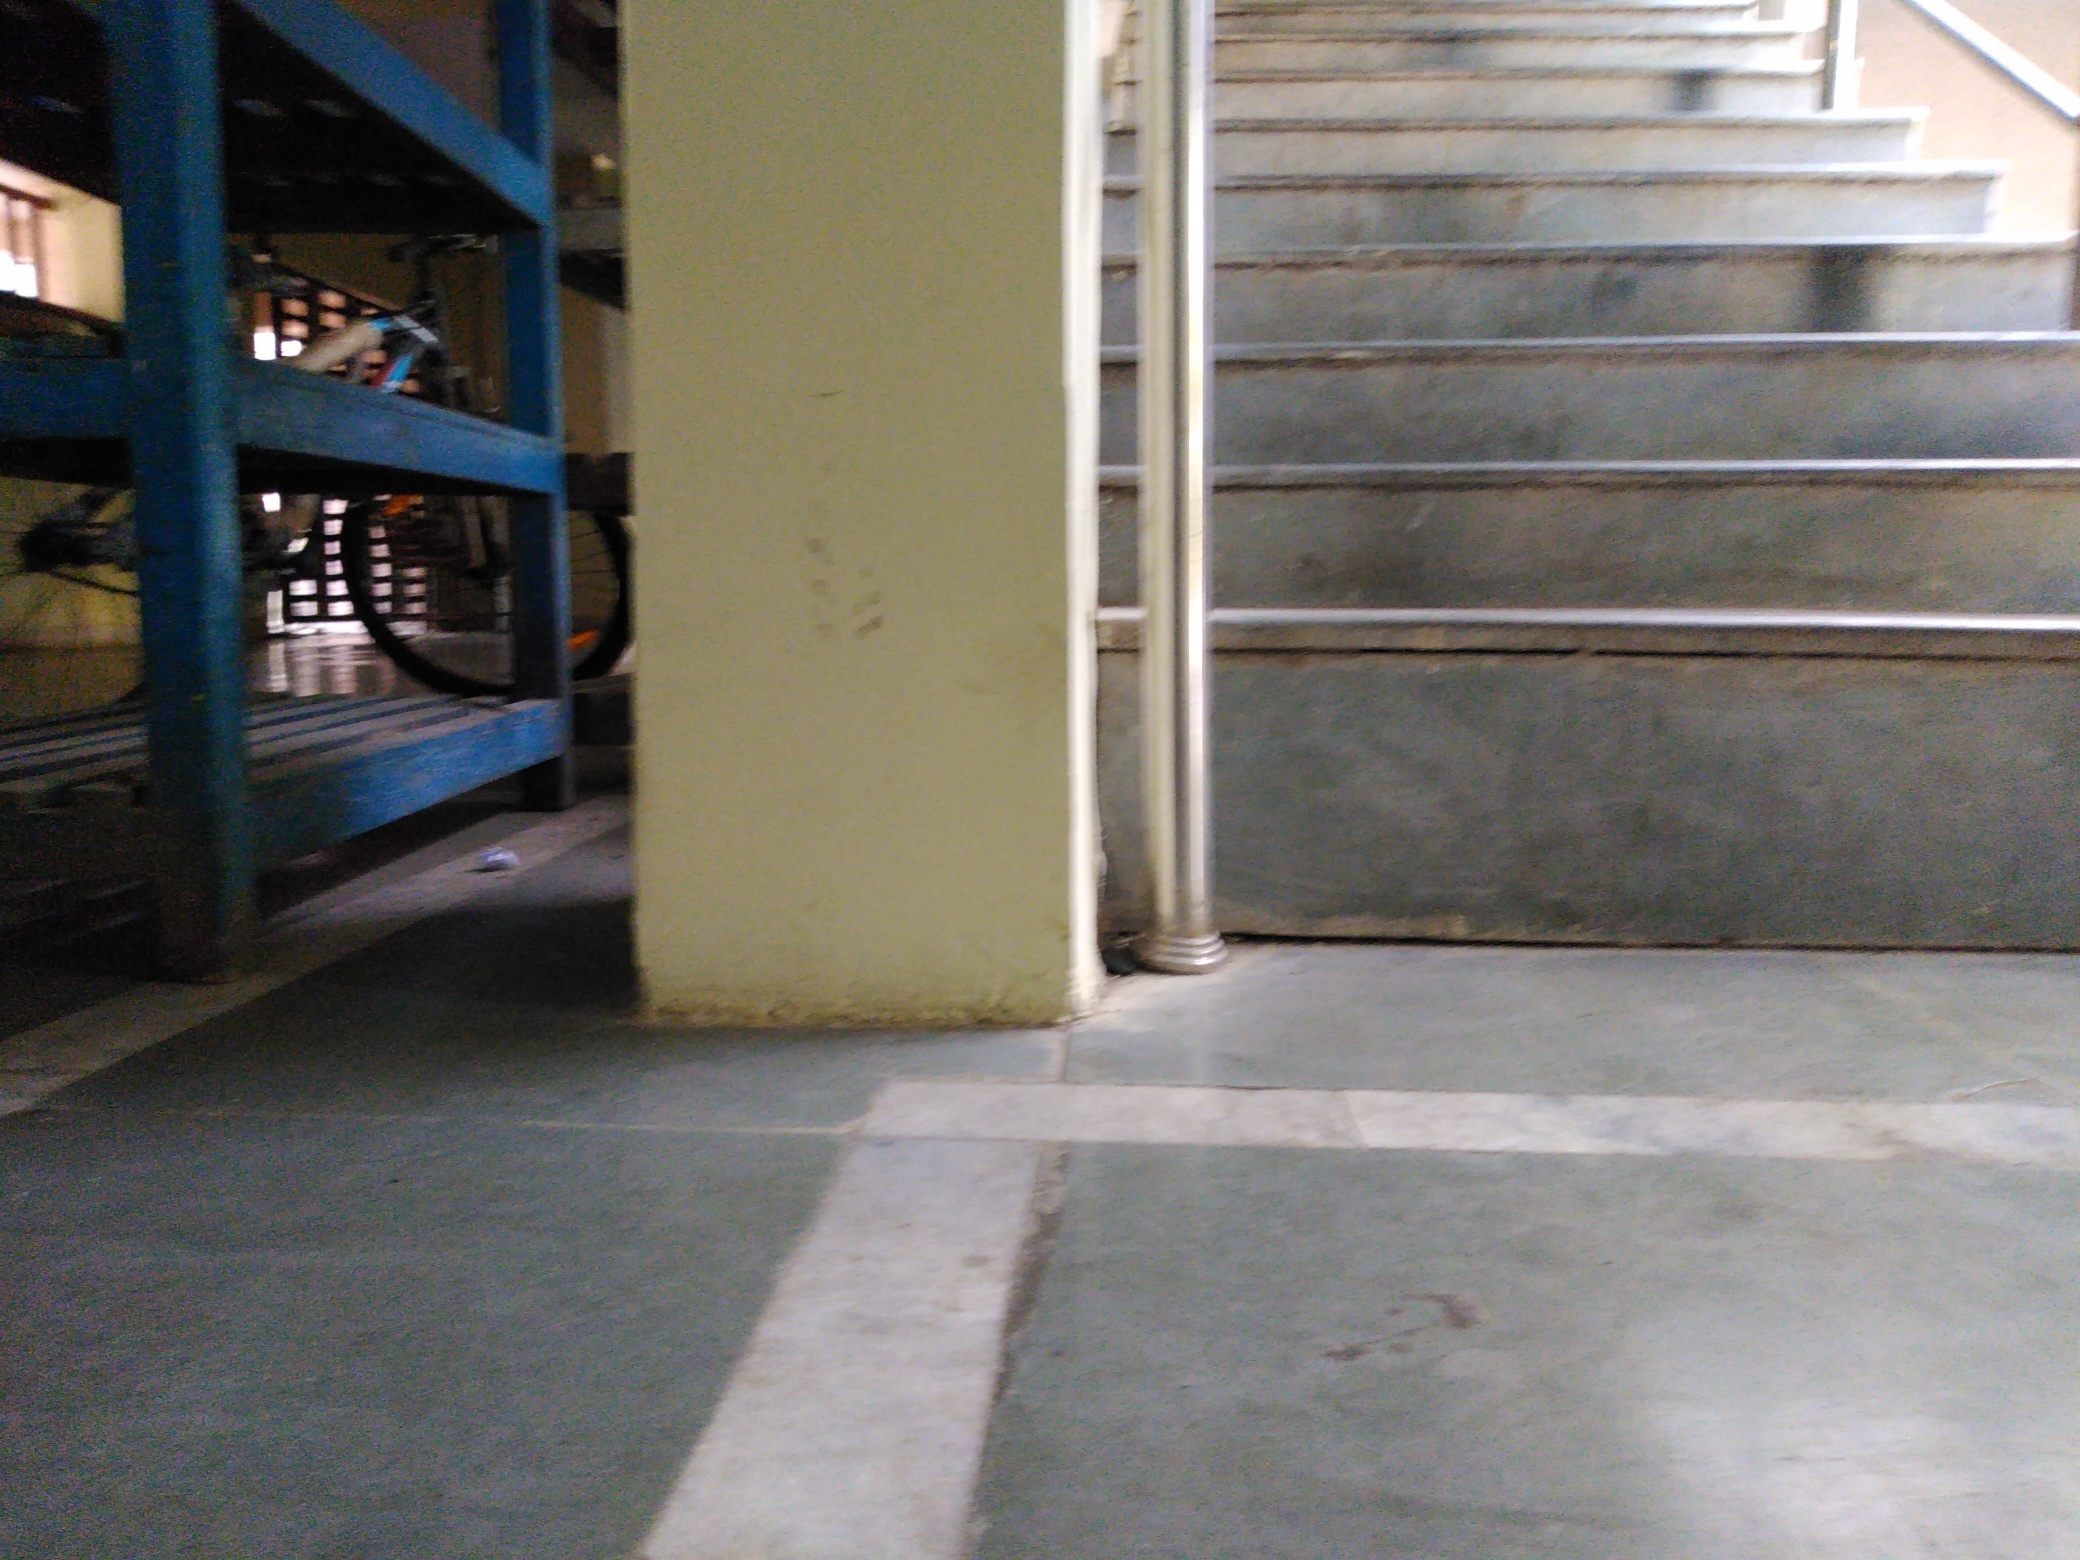stairs_up: (1223, 5, 2080, 950)
